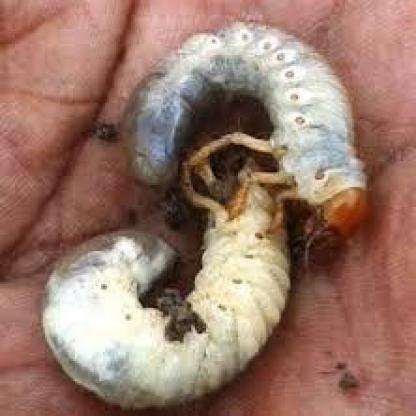root grubs: (34, 169, 289, 410), (128, 23, 370, 248)
